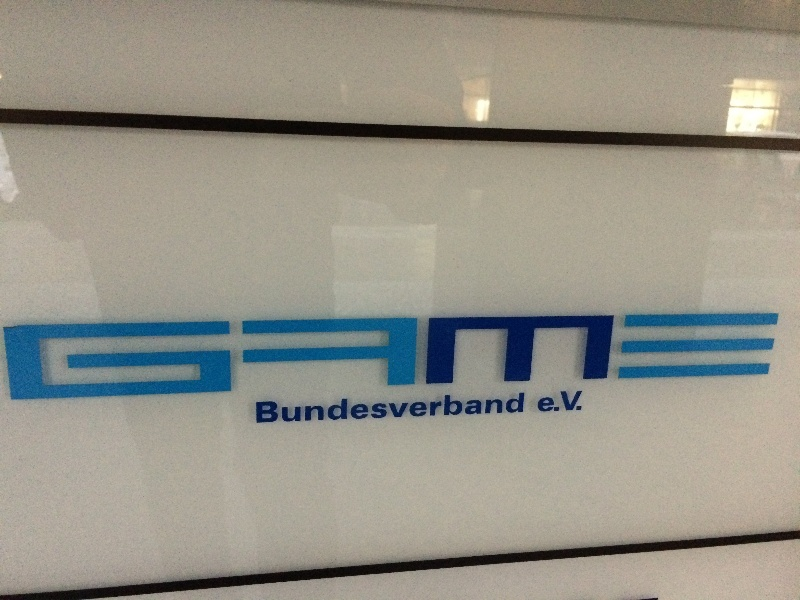text: (1, 312, 16, 404), (17, 312, 32, 404), (33, 312, 48, 404), (49, 312, 64, 404), (65, 312, 80, 404), (81, 312, 96, 404), (97, 312, 112, 404), (113, 312, 128, 404), (129, 312, 144, 404), (145, 312, 160, 404), (161, 312, 176, 404), (177, 312, 192, 404), (193, 312, 208, 404), (209, 312, 224, 404), (225, 312, 240, 404), (241, 312, 256, 404), (257, 312, 272, 404), (273, 312, 288, 404), (289, 312, 304, 404), (305, 312, 320, 404), (321, 312, 336, 404), (337, 312, 352, 404), (353, 312, 368, 404), (369, 312, 384, 404), (385, 312, 400, 404), (401, 312, 416, 404), (417, 312, 432, 404), (433, 312, 448, 404), (449, 312, 464, 404), (465, 312, 480, 404), (481, 312, 496, 404), (497, 312, 512, 404), (513, 312, 528, 404), (529, 312, 544, 404), (545, 312, 560, 404), (561, 312, 576, 404), (577, 312, 592, 404), (593, 312, 608, 404), (609, 312, 616, 404), (257, 392, 272, 426), (273, 392, 288, 426), (289, 392, 304, 426), (305, 392, 320, 426), (321, 392, 336, 426), (337, 392, 352, 426), (353, 392, 368, 426), (369, 392, 384, 426), (385, 392, 400, 426), (401, 392, 416, 426), (417, 392, 432, 426), (433, 392, 448, 426), (449, 392, 464, 426), (465, 392, 480, 426), (481, 392, 496, 426), (497, 392, 512, 426), (513, 392, 526, 426), (545, 389, 560, 414), (561, 389, 576, 414), (538, 389, 544, 414), (577, 389, 583, 414)
